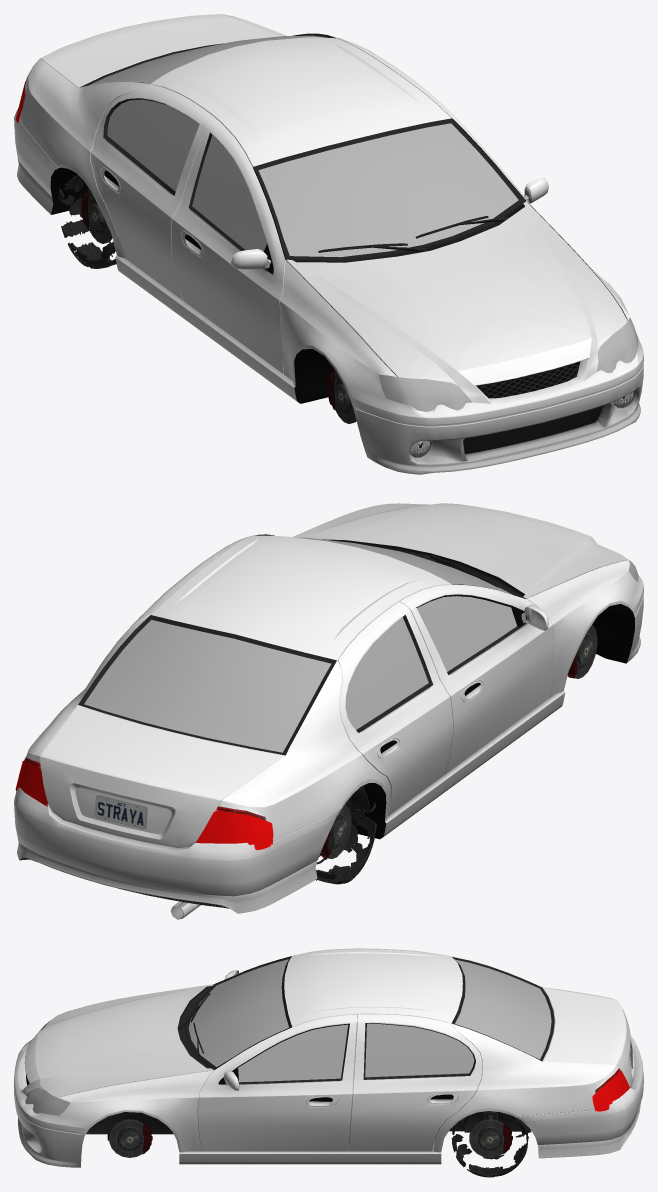
The model's file is 24_FalconBA.fbx.
3 views of the same model, one above another, from view 1: azimuth 30°, elevation 25°; view 2: azimuth 150°, elevation 25°; view 3: azimuth 270°, elevation 25° (orthographic). The views are drawn at different scales.
Visible parts, largest first — view 1: Body_Duco, Body_Glass, Kit_01_Duco, Body_Matte, Rotor (×2); view 2: Body_Duco, Body_Glass, Kit_01_Duco, Body_Matte, BrakeLights, Rotor (×2), NumberPlate; view 3: Body_Duco, Body_Glass, Kit_01_Duco, Body_Matte, Rotor (×2), BrakeLights.
Boxes of the visible parts, x1,y1,x2,y2 form: Body_Duco: (14, 14, 643, 474); Body_Glass: (88, 35, 638, 411); Kit_01_Duco: (286, 201, 627, 378); Body_Matte: (50, 33, 602, 454); Rotor (×2): (88, 189, 356, 423); Body_Duco: (14, 524, 643, 913); Body_Glass: (84, 537, 638, 752); Kit_01_Duco: (293, 503, 627, 598); Body_Matte: (78, 534, 634, 839); BrakeLights: (15, 760, 273, 850); Rotor (×2): (328, 624, 597, 858); NumberPlate: (94, 795, 147, 829); Body_Duco: (14, 948, 643, 1167); Body_Glass: (25, 959, 551, 1115); Kit_01_Duco: (35, 984, 213, 1097); Body_Matte: (26, 956, 554, 1140); Rotor (×2): (109, 1119, 504, 1157); BrakeLights: (592, 1069, 629, 1112).
Size of what is drawn, in the model's own units: 2.07 by 1.37 by 4.89.
